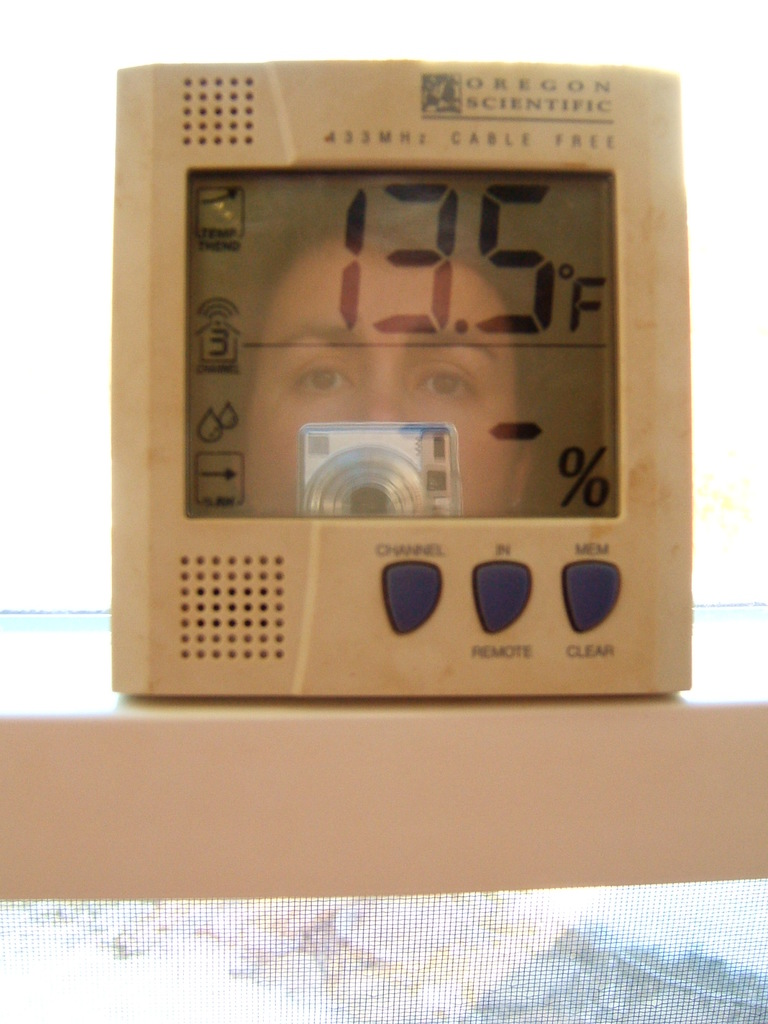face: (244, 210, 519, 636)
